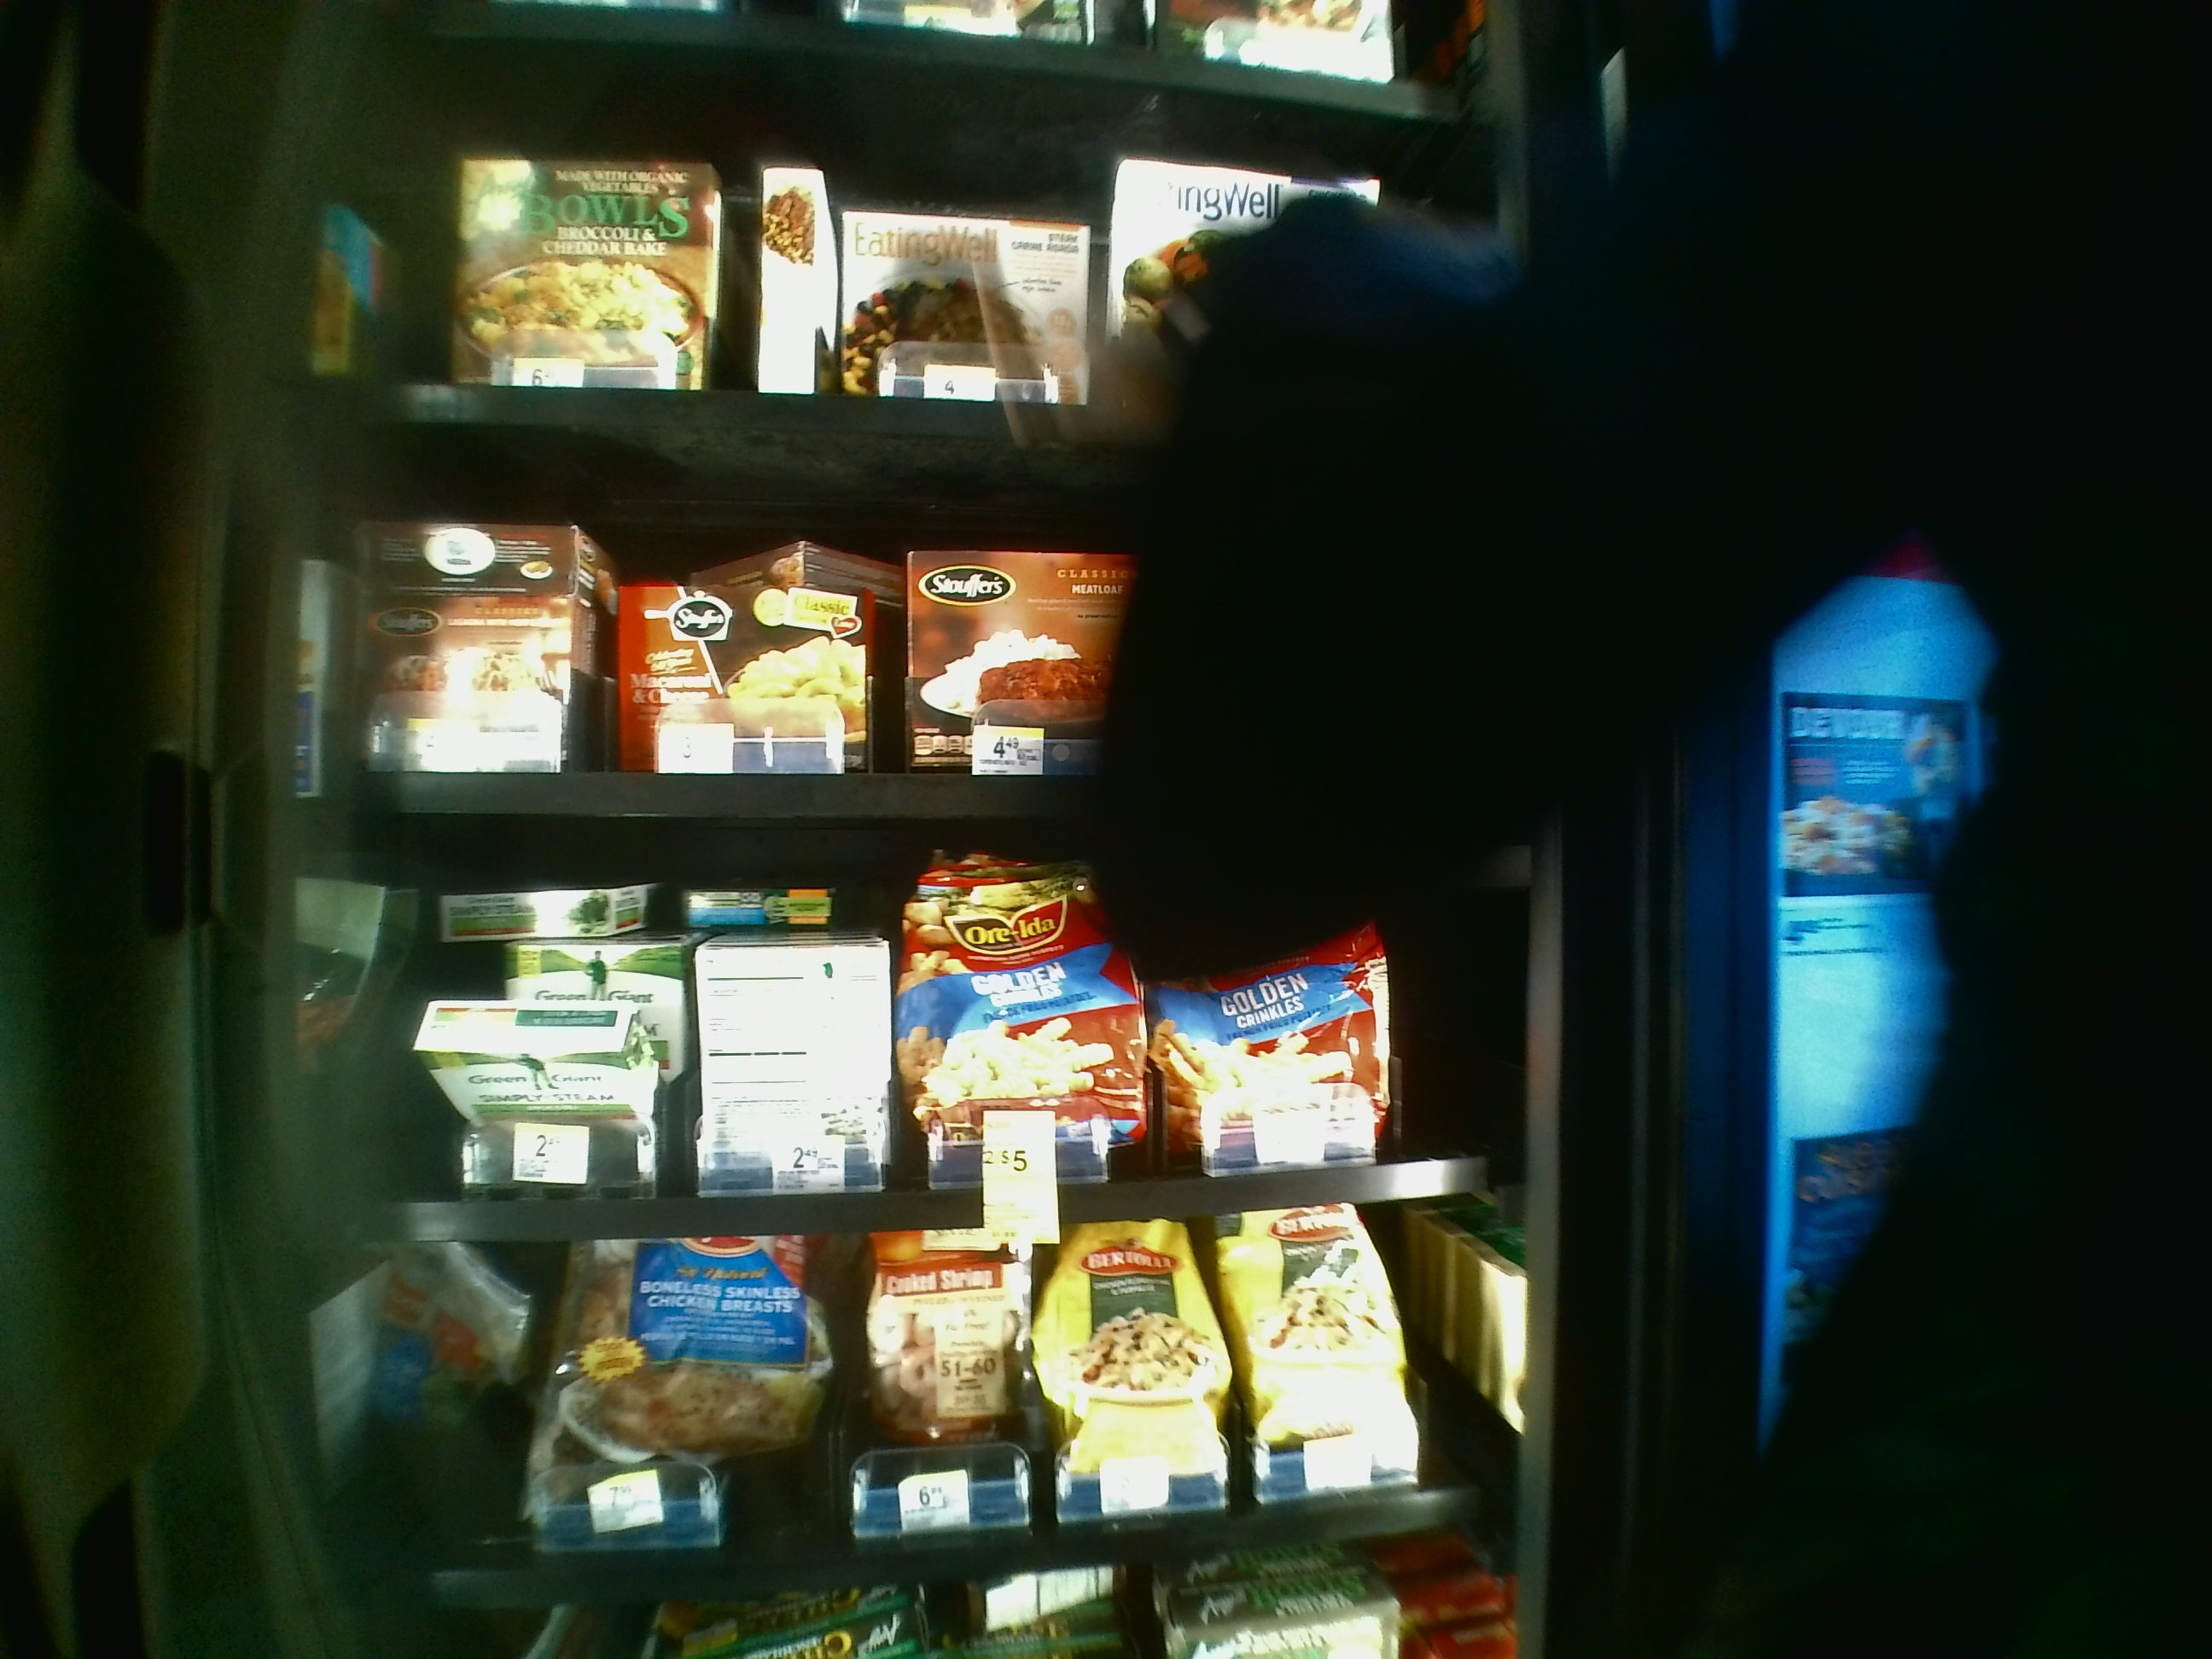shelf: (347, 829, 1519, 1251), (343, 422, 1521, 814)
